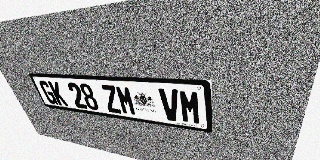2: (66, 82, 88, 109)
8: (78, 83, 100, 111)
G: (38, 80, 58, 105)
K: (47, 81, 69, 106)
M: (178, 89, 201, 125), (114, 85, 137, 116)
V: (158, 88, 181, 122)
Z: (100, 84, 122, 114)
